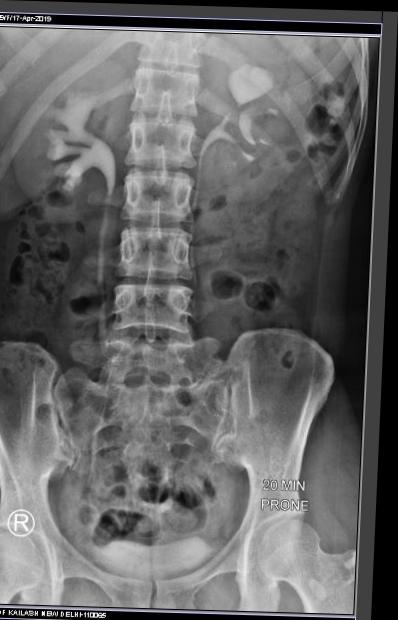bladder: (74, 485, 232, 579)
right kidney: (4, 51, 126, 229)
vertebrae: (126, 118, 200, 170)
